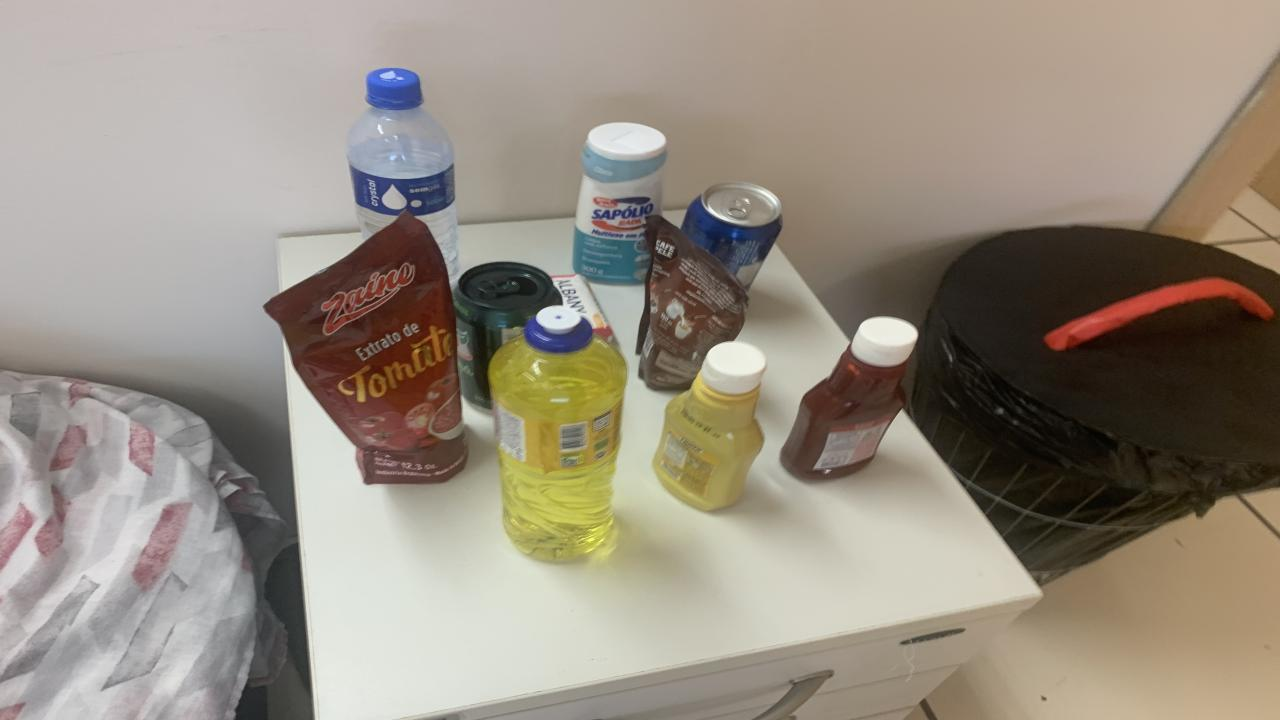Cleaner-Cleanup_Items: (572, 122, 668, 283)
Coffee-Pantry_Items: (635, 216, 748, 390)
Detergent-Cleanup_Items: (488, 306, 628, 561)
Guarana_Can-Drinks: (452, 262, 562, 411)
Ketchup-Pantry_Items: (780, 317, 918, 480)
Mustard-Pantry_Items: (652, 341, 765, 510)
Soap-Cleanup_Items: (552, 274, 615, 343)
Tomato_Sauce-Pantry_Items: (265, 212, 468, 484)
Tonic-Drinks: (682, 182, 782, 289)
Water_Bottle-Drinks: (348, 68, 460, 285)
